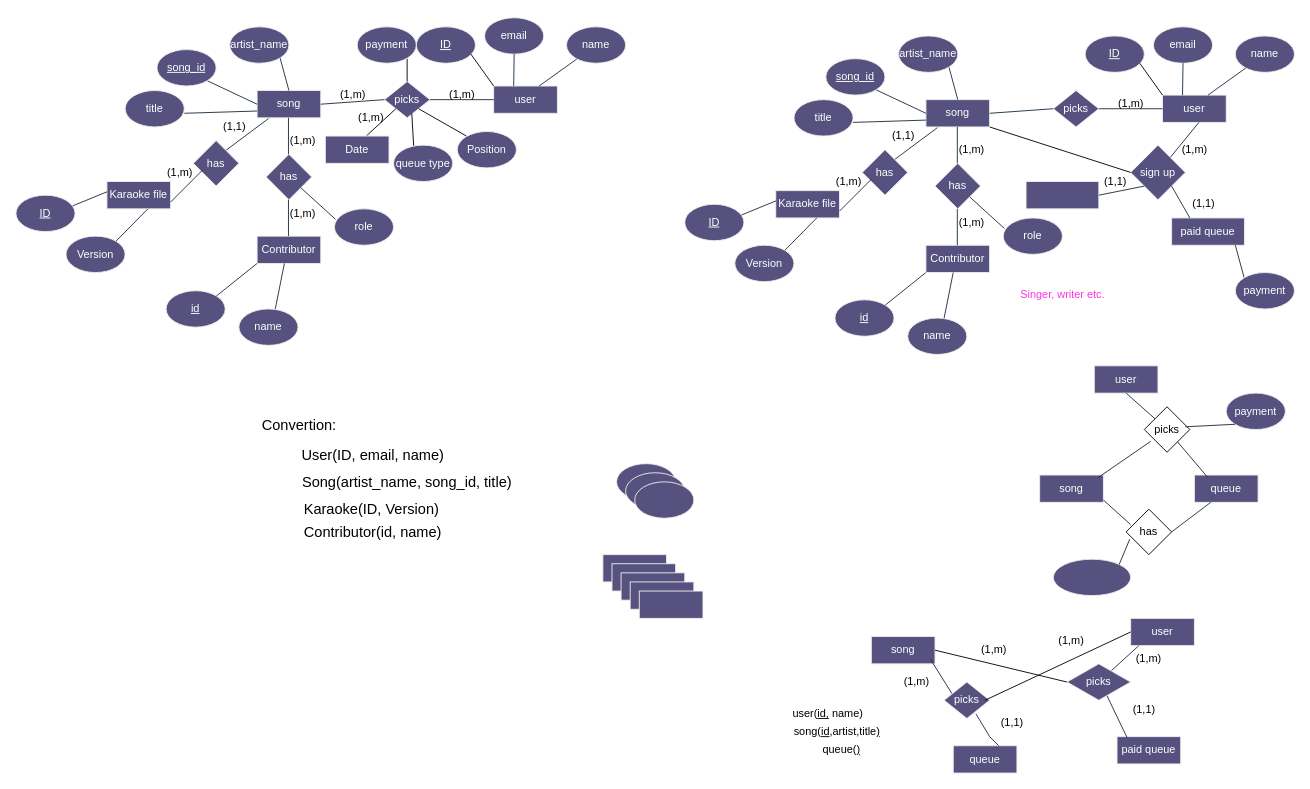
This 1310x789 diagram has some shape labels left out. Each missing label, with the centre of its shape:
free queue: point 1062,195
order_queue: point 1091,577
